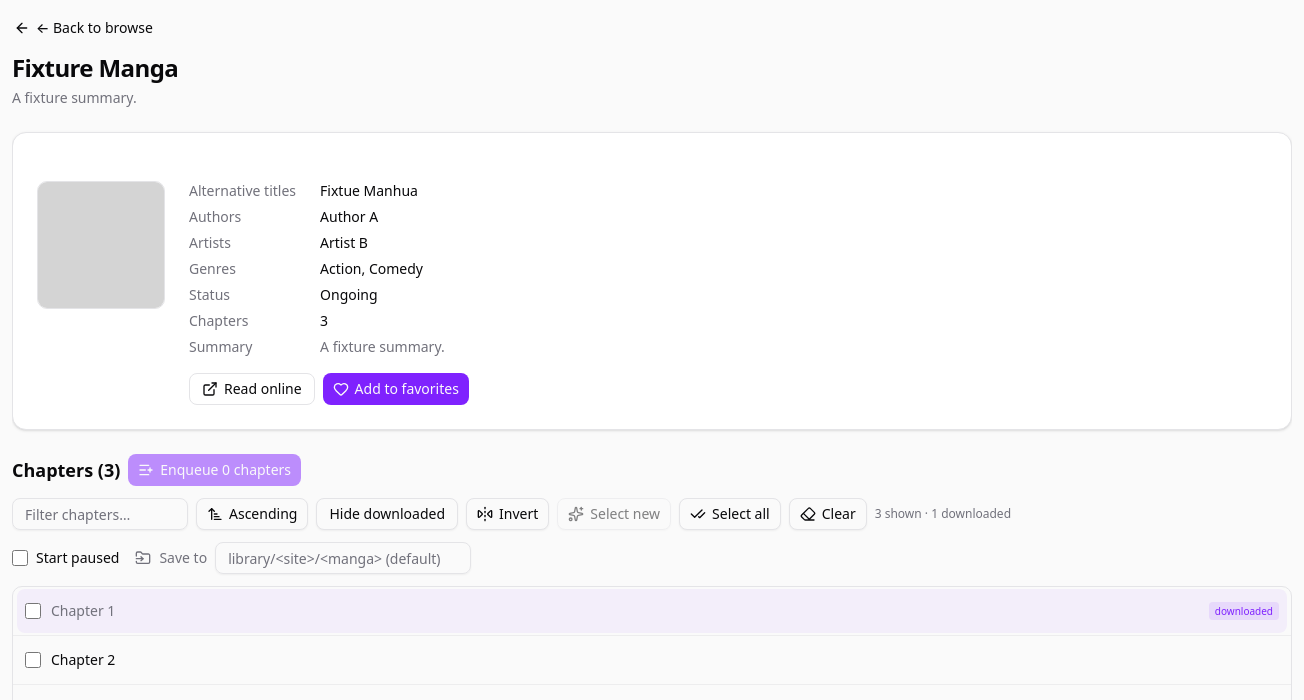
MangaPage parity: chapter toolbar + tinting › hide-downloaded drops ledger members
Expected: the heading "Chapters (3)" is shown, [12,456,120,484]
Click the button "Hide downloaded".
click(387, 514)  # box [316,498,458,530]
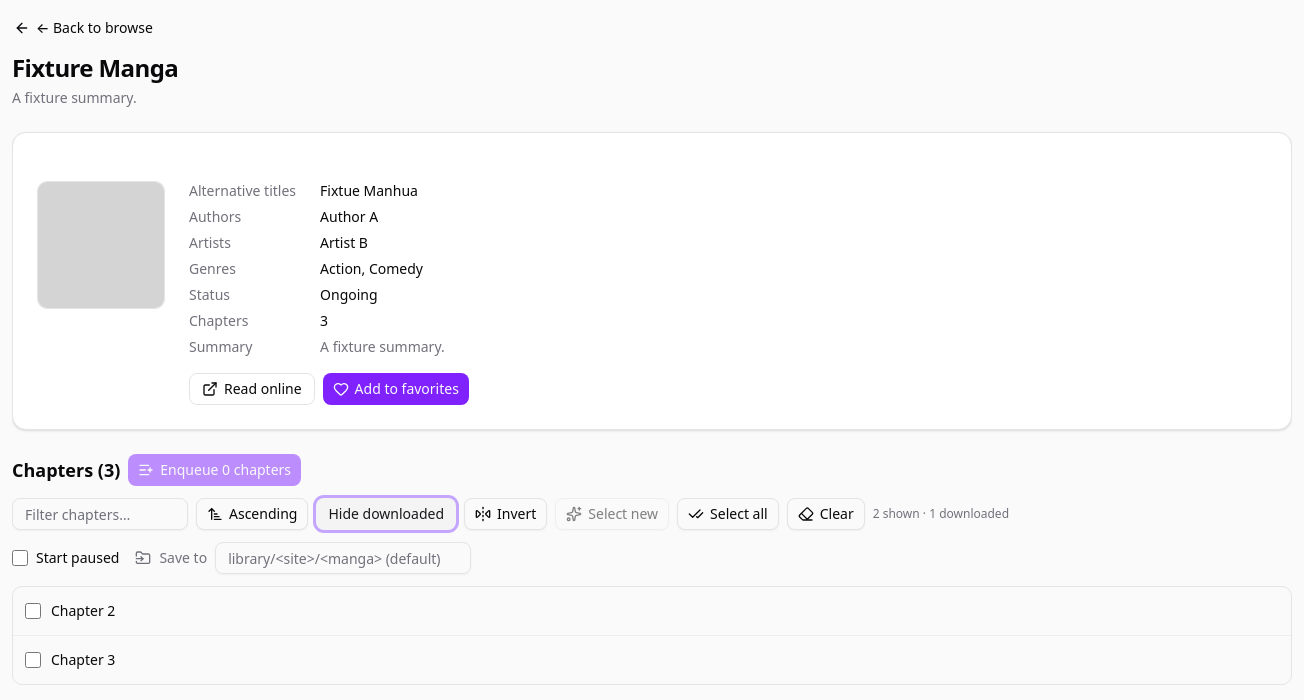
Expected: the checkbox labelled "Chapter 2" is shown, [25,603,41,619]
Expected: the text labelled "Chapter 1" is gone
Expected: the text "2 shown · 1 downloaded" is shown, [873,506,1009,522]
